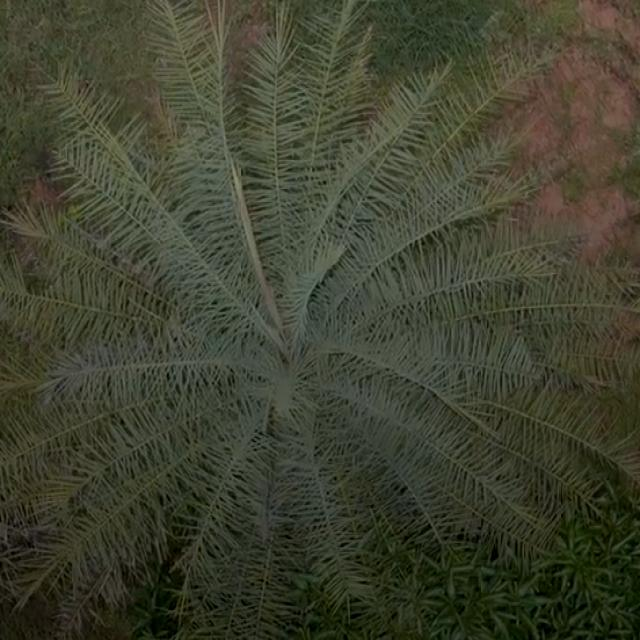mangoTree: (90, 497, 640, 640)
notMangoTree: (0, 0, 596, 640)
